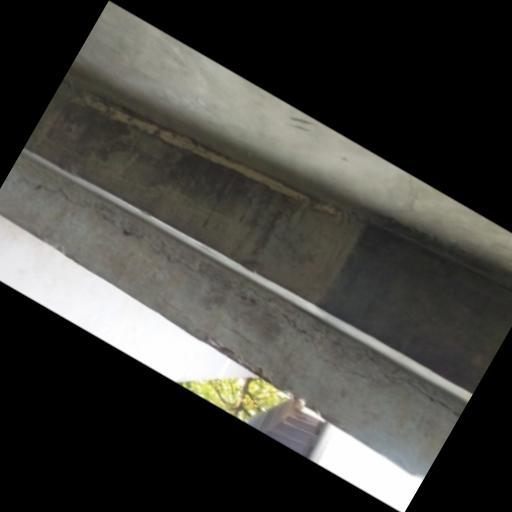stairs: (23, 80, 511, 400)
